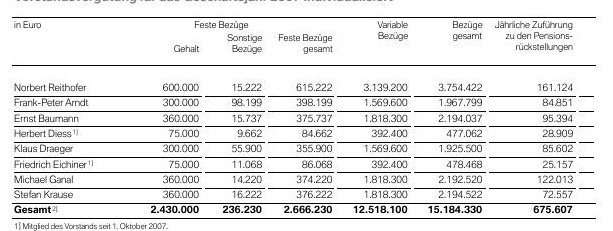table: (0, 0, 613, 231)
